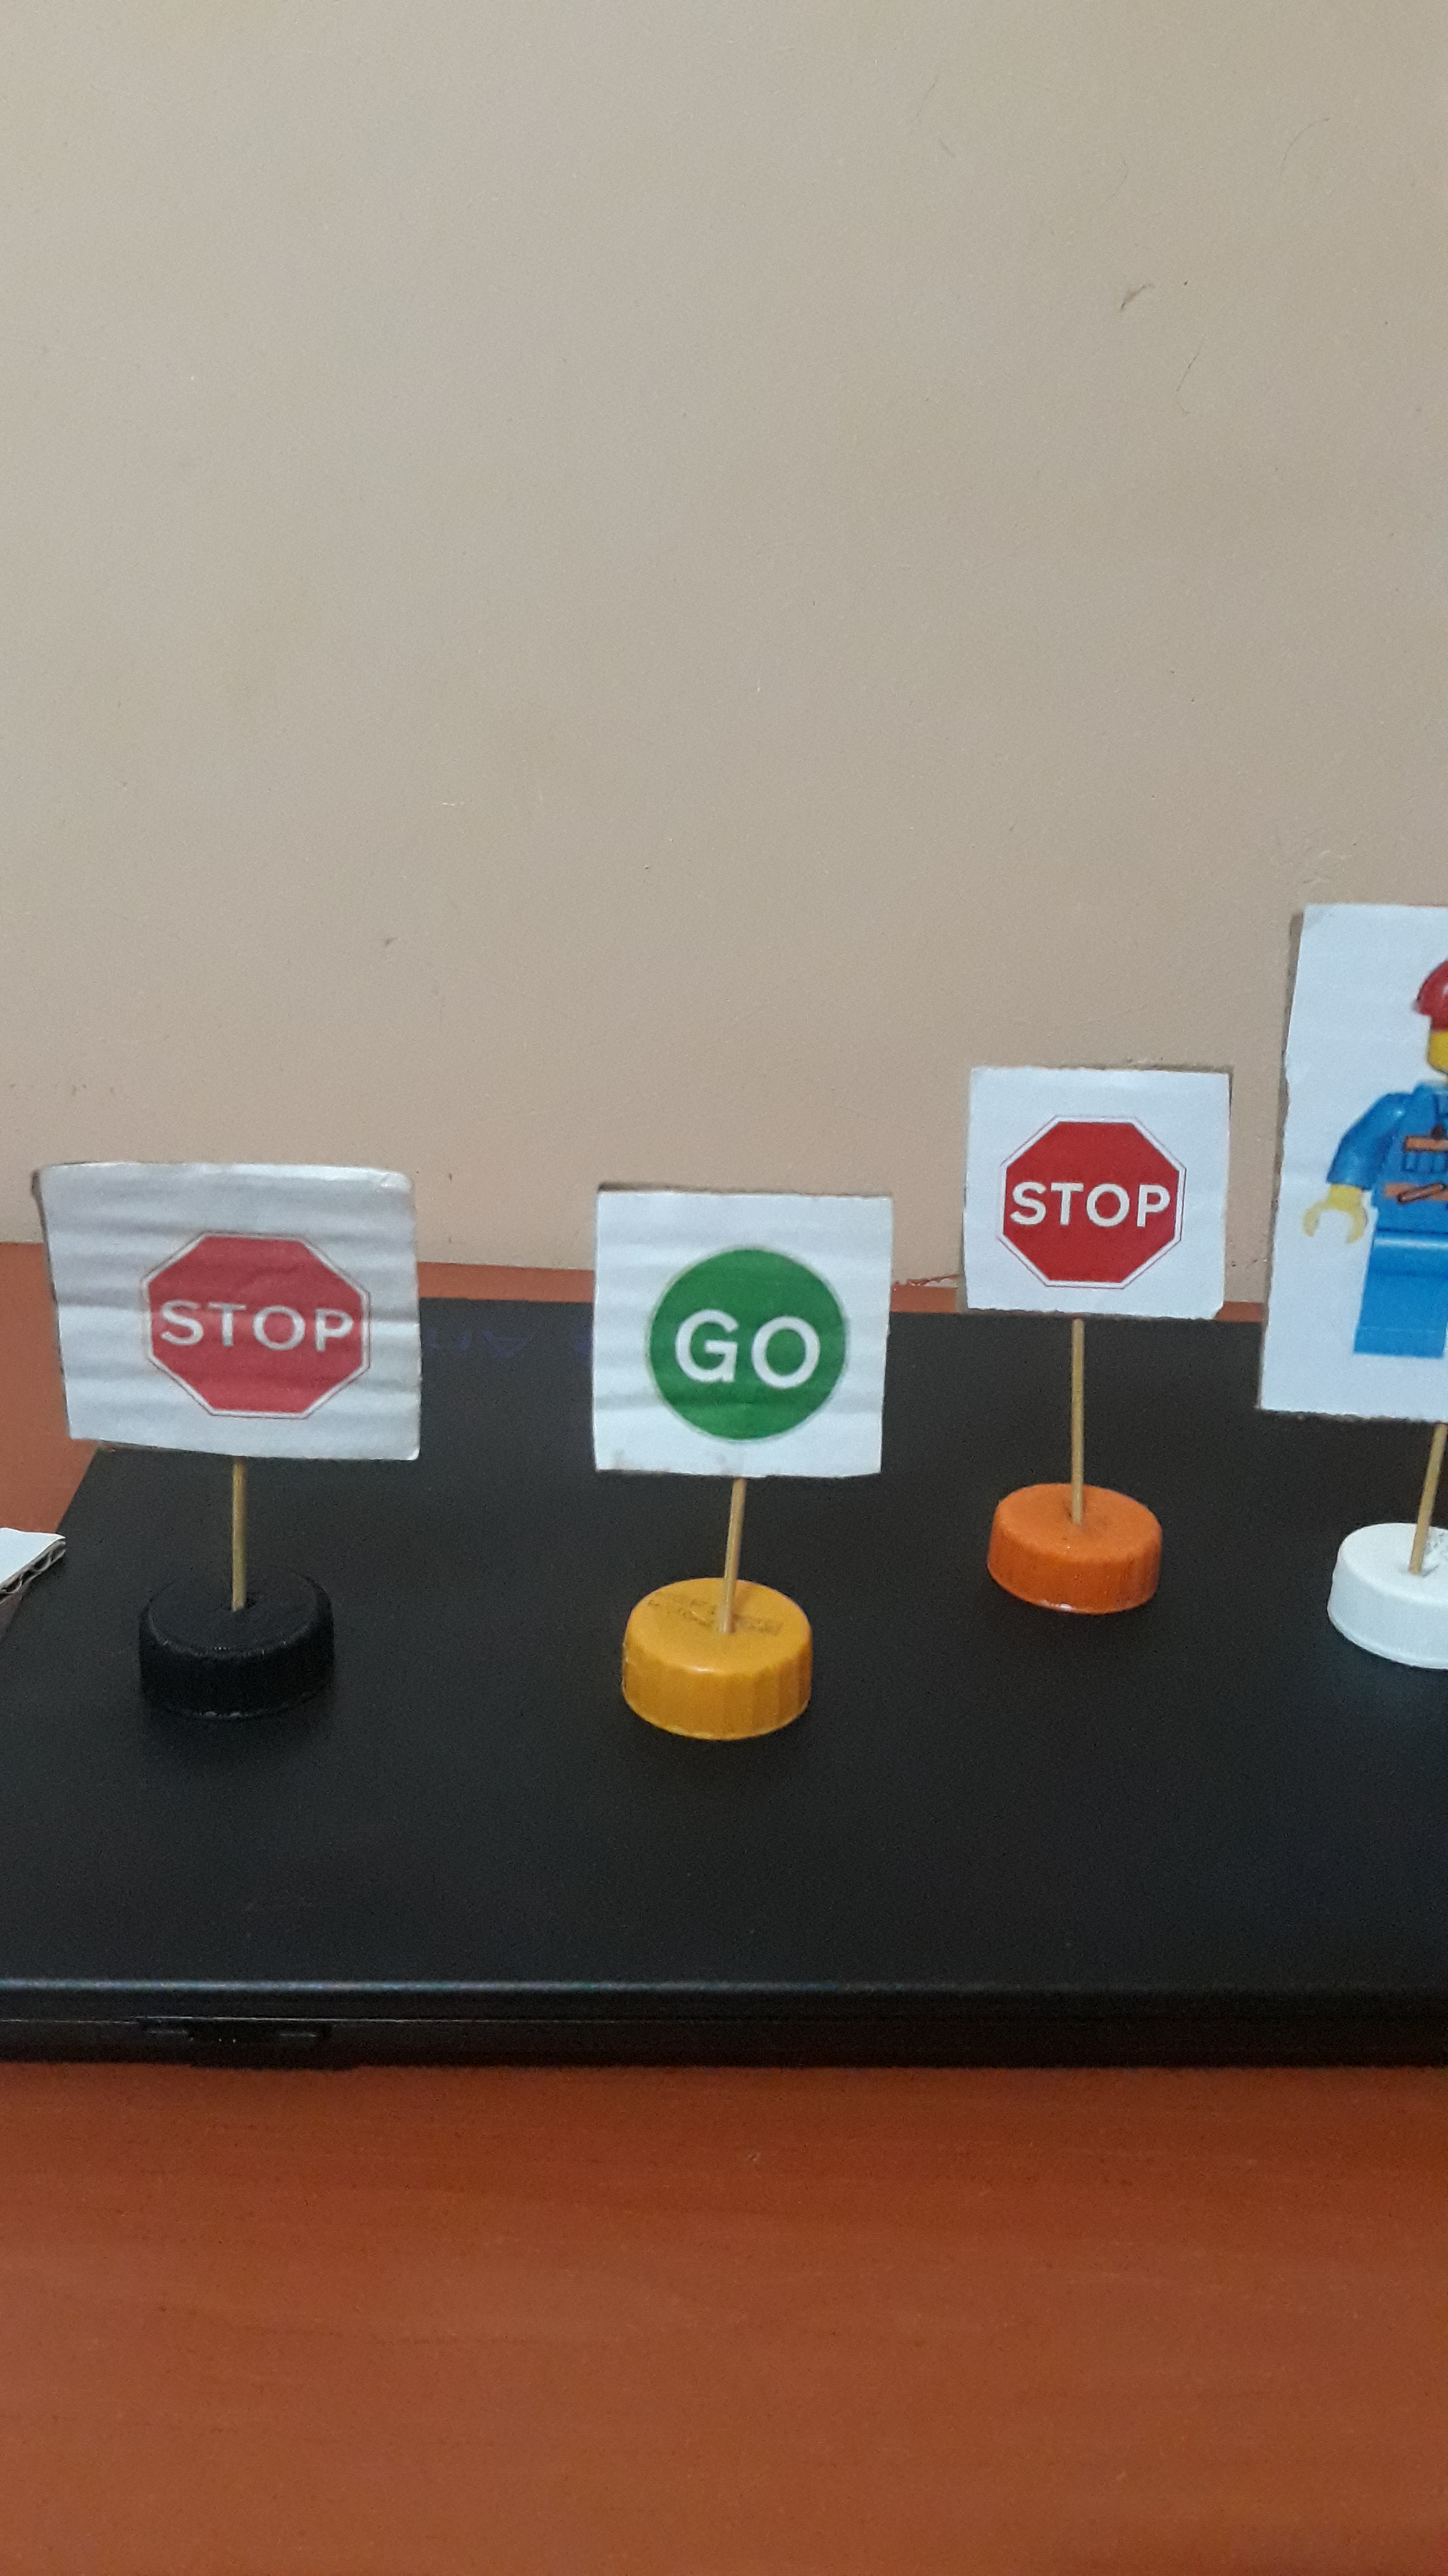go: (630, 1214, 873, 1471)
pedestrian: (1301, 929, 1448, 1395)
stop: (108, 1179, 389, 1440), (977, 1081, 1223, 1311)
